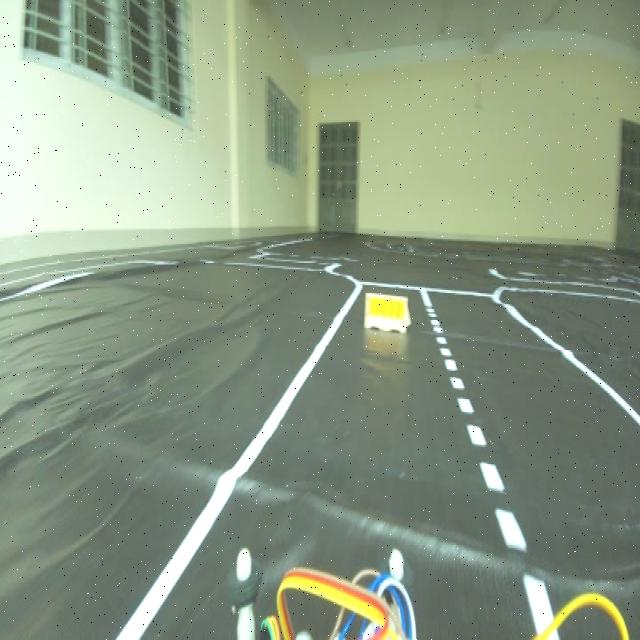roadblock: (359, 284, 416, 342)
